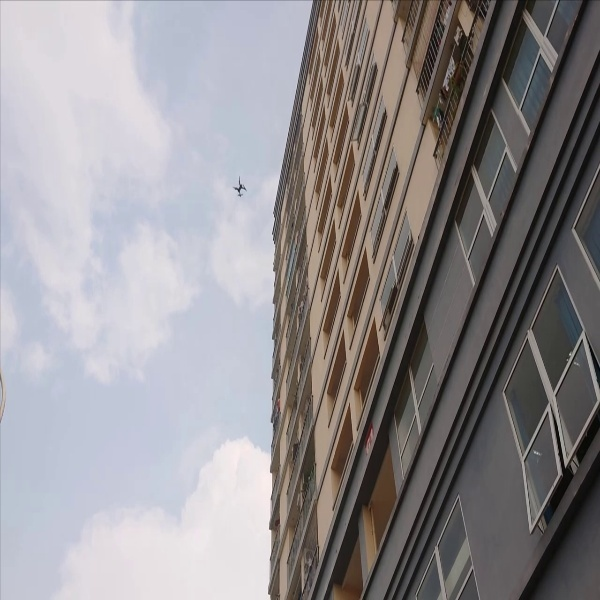drone: (228, 174, 256, 203)
